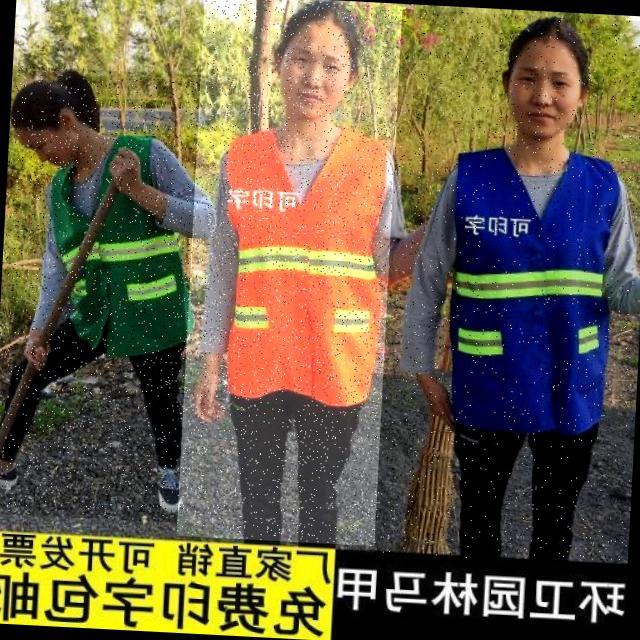Human: (374, 8, 640, 566), (176, 0, 413, 546), (0, 66, 222, 524)
Safety Boot: (140, 449, 193, 516)
Safety Vest: (438, 143, 626, 436), (221, 122, 404, 406), (47, 126, 186, 348)
